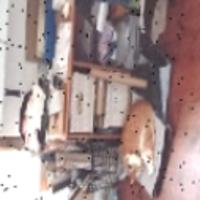asleep: (118, 97, 159, 186)
